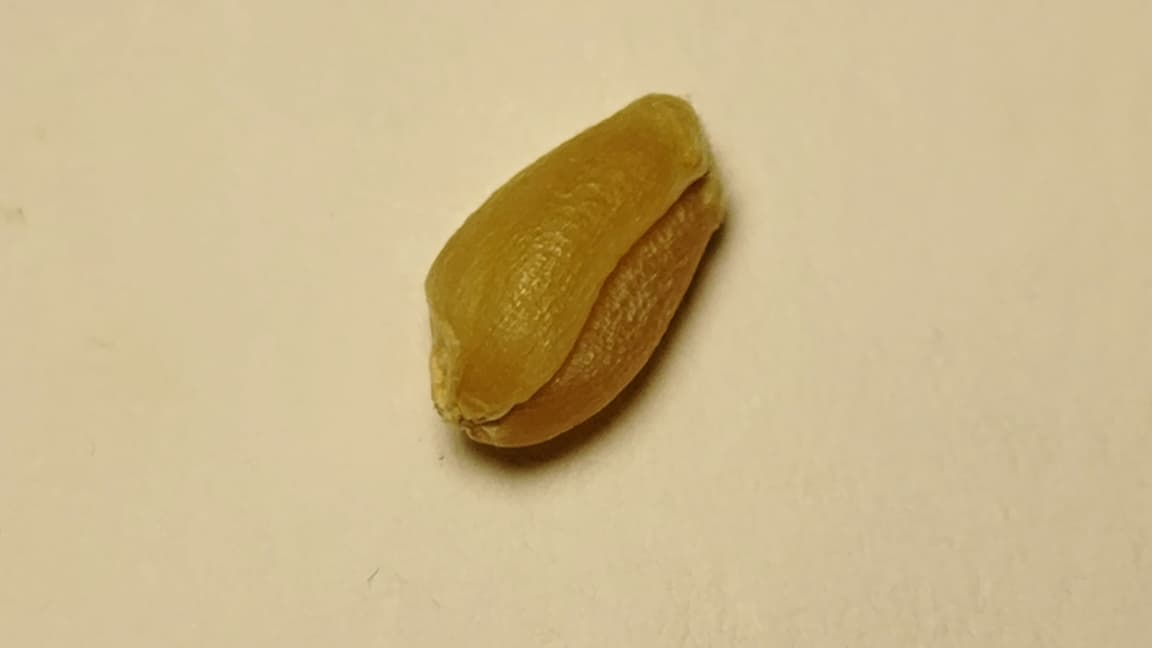healthy: (425, 94, 724, 446)
